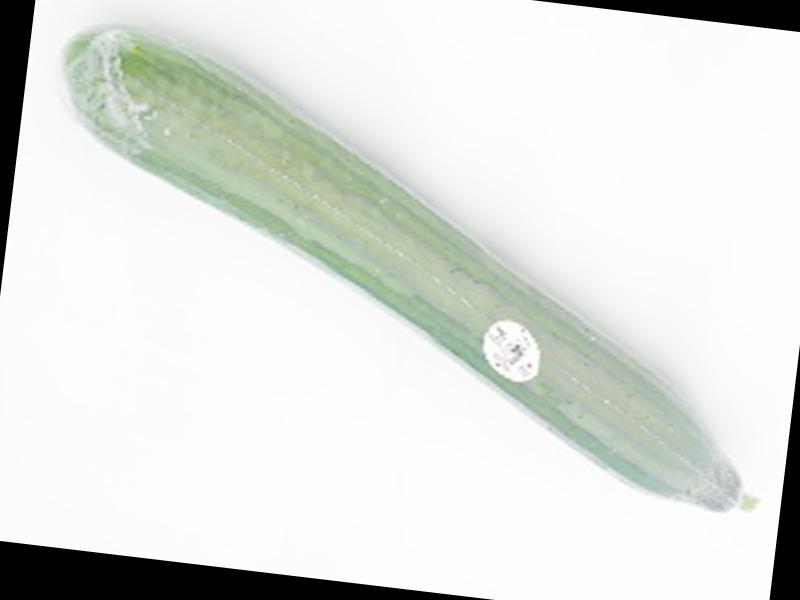Cucumber: (23, 24, 800, 518)
